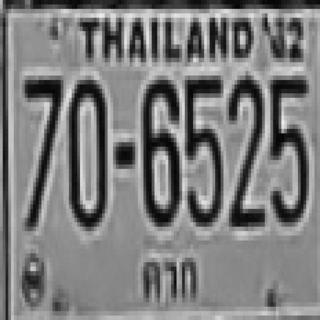N00: (66, 76, 105, 226)
N02: (226, 74, 262, 224)
N05: (268, 71, 306, 222), (184, 71, 219, 222)
N06: (142, 76, 178, 222)
N07: (22, 76, 61, 226)
P69: (135, 249, 199, 306)
